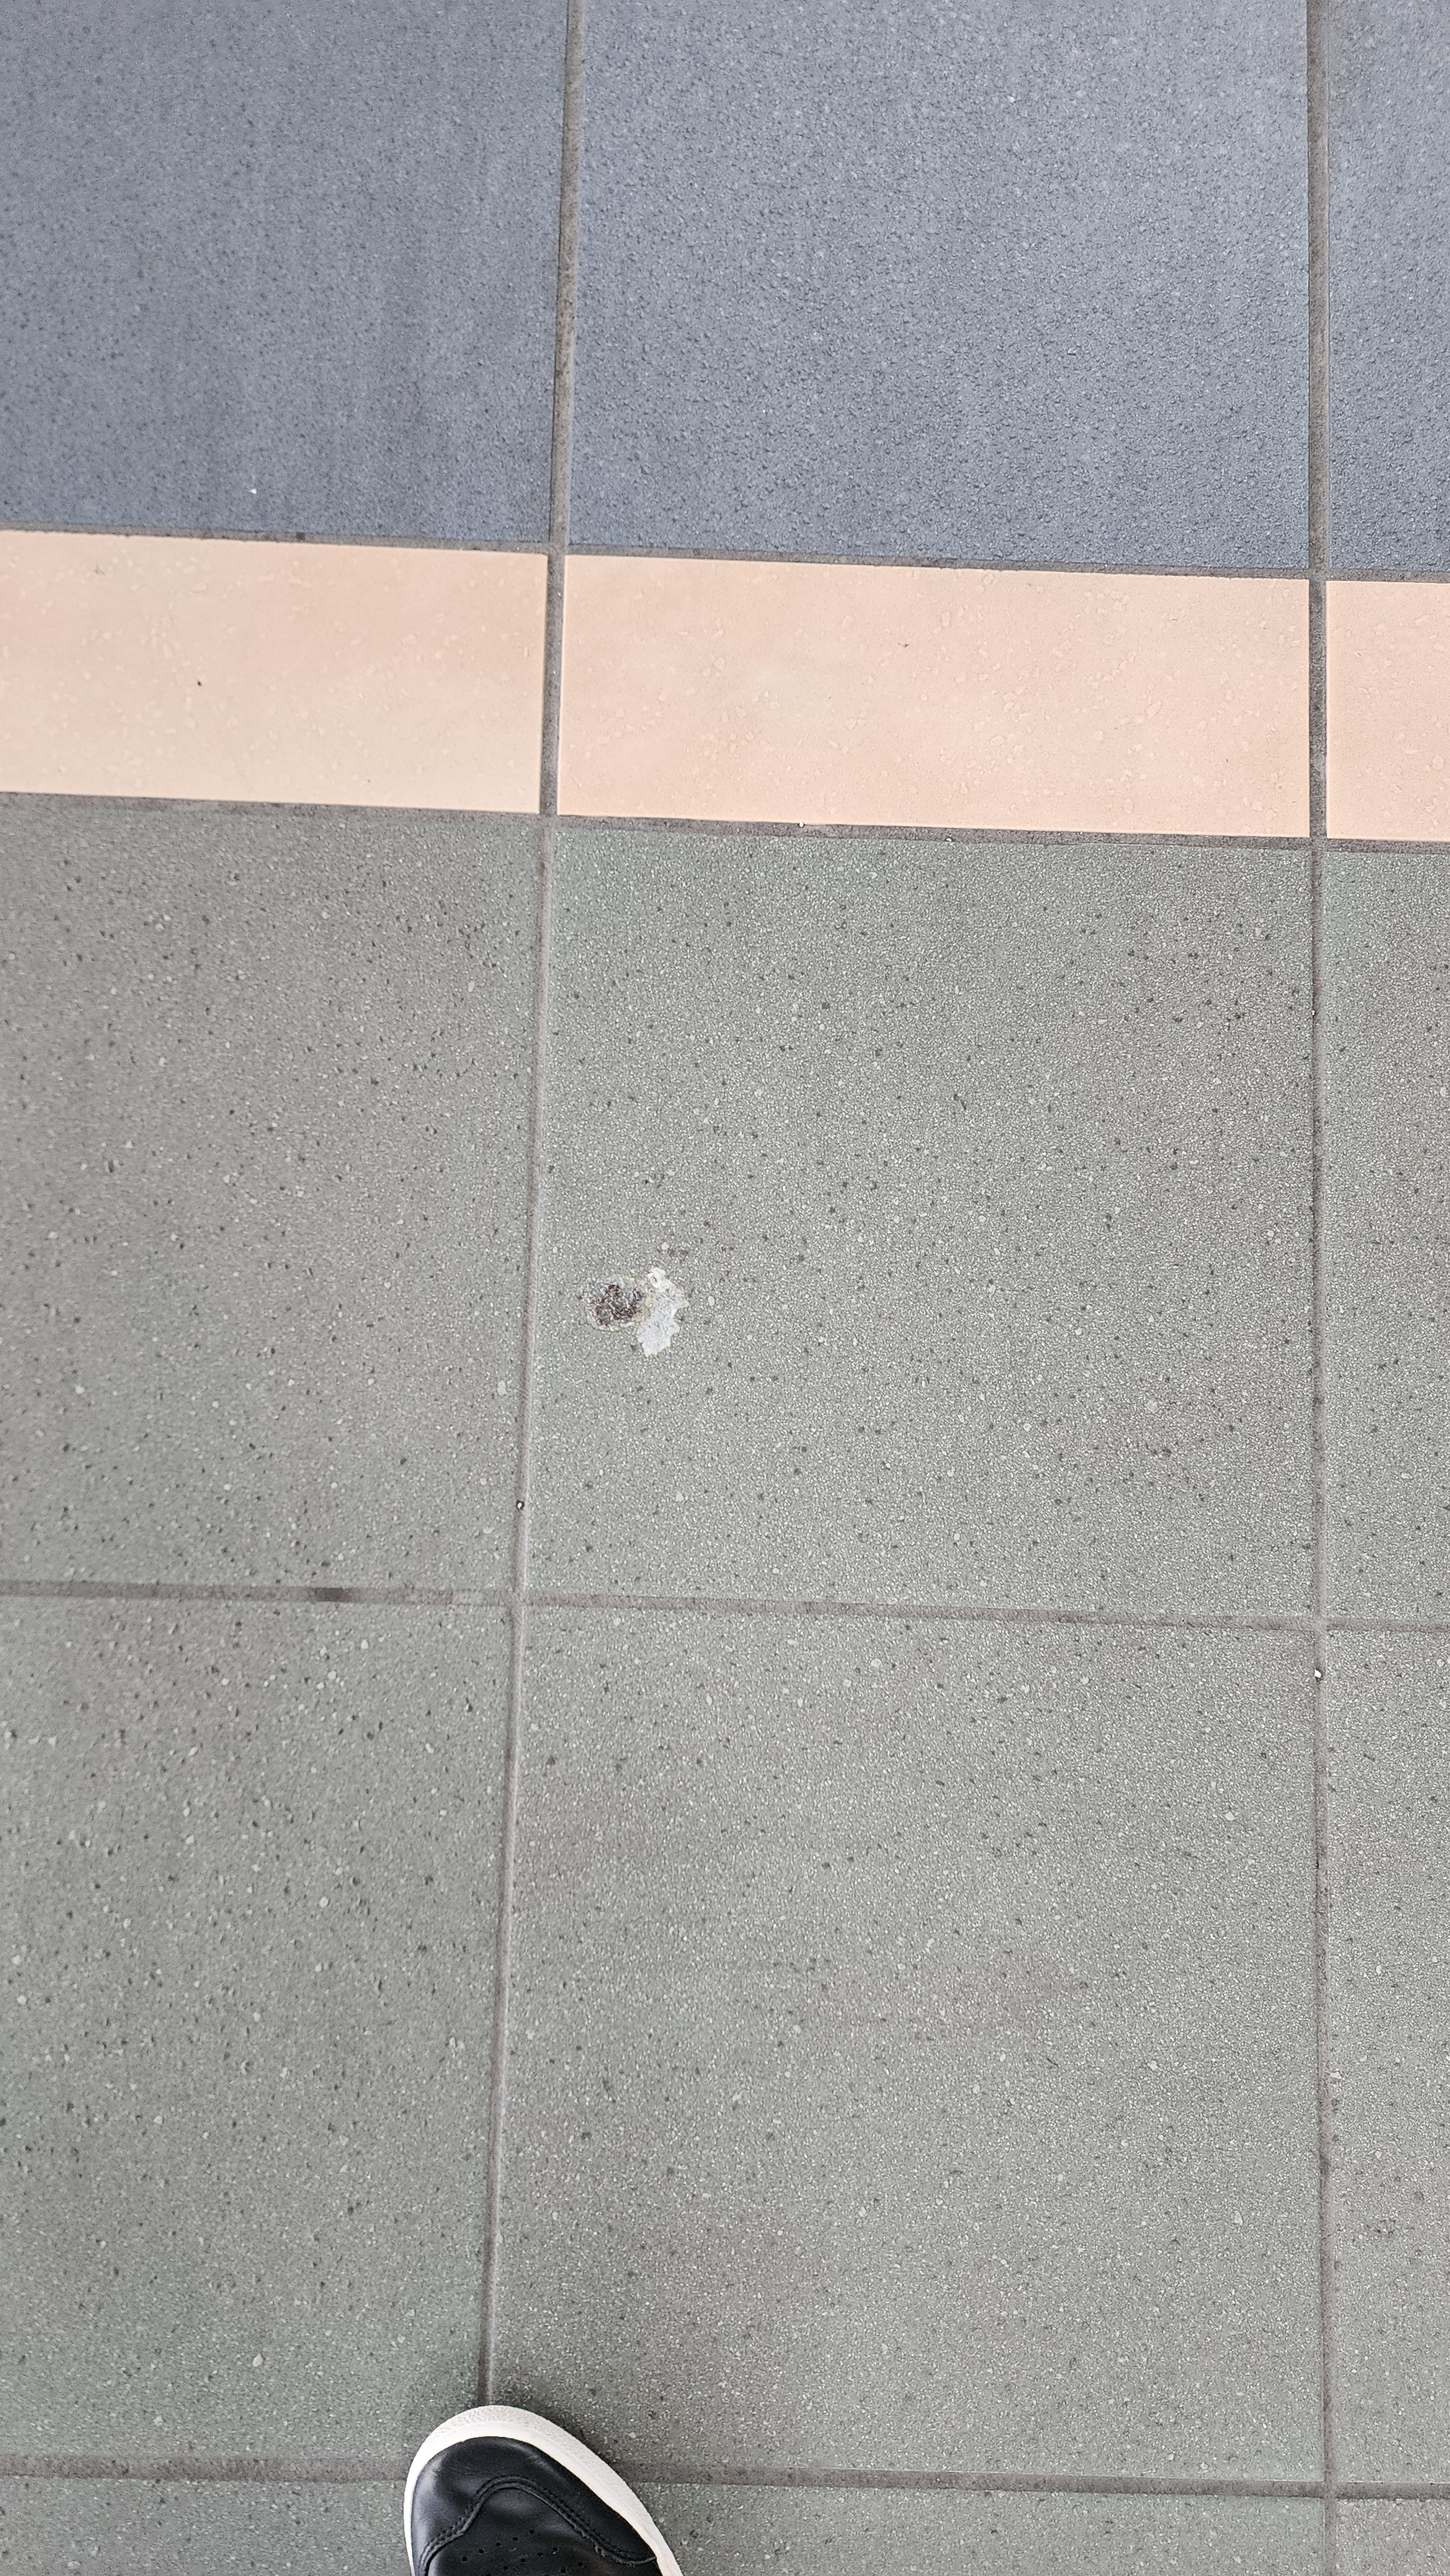Defect: (582, 1263, 711, 1380)
